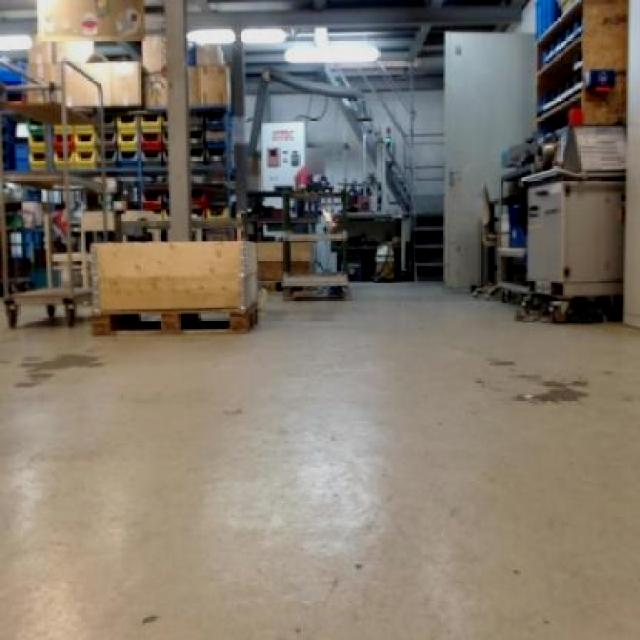floor: (0, 282, 637, 637)
pallets: (91, 238, 254, 331), (522, 168, 620, 294)
